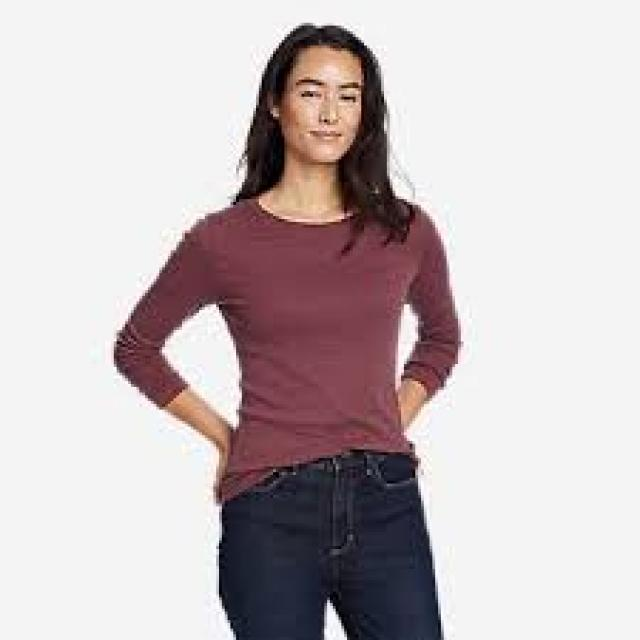plain: (108, 200, 469, 490)
